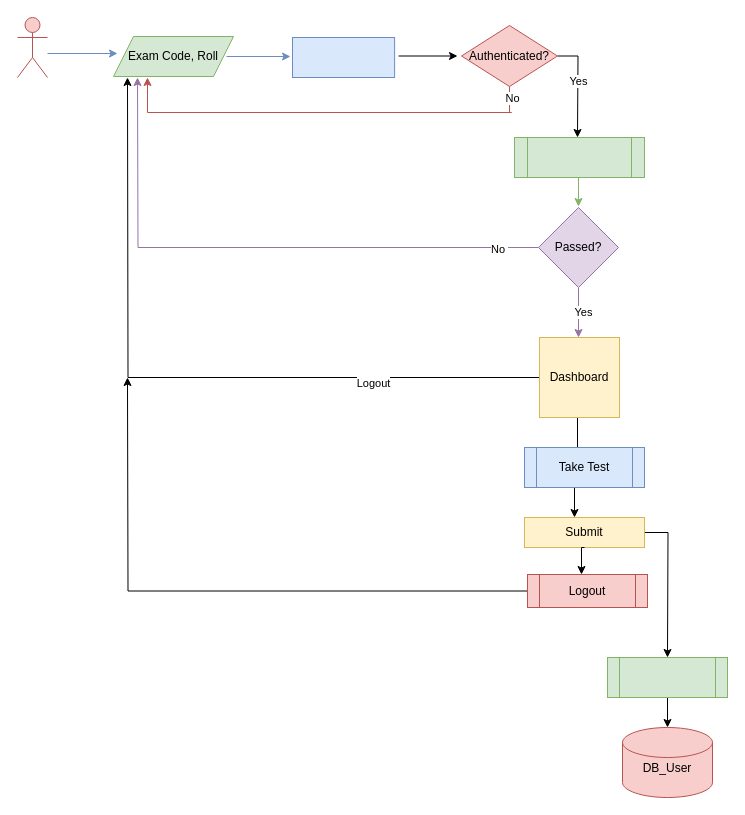
The diagram is 745 pixels wide and 815 high, and some of its shapes have lost their labels. The shapes that lost their labels are listed below. From the top down, each one's box as (x1, y1, x2, y2) in pixels, then its label:
(16, 16, 48, 78): Users
(292, 36, 395, 78): Authentication
(514, 136, 644, 178): Middlewares
(606, 656, 728, 698): Generate Report
